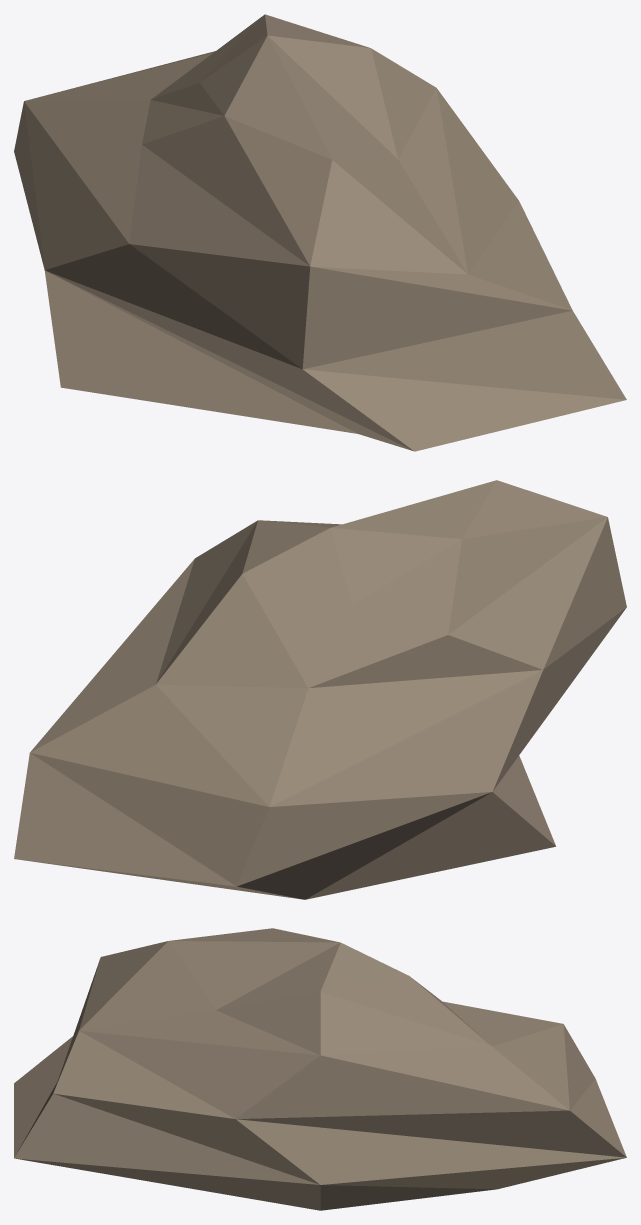
The model's file is fbxRock.fbx.
3 views of the same model, one above another, from view 1: azimuth 30°, elevation 25°; view 2: azimuth 150°, elevation 25°; view 3: azimuth 270°, elevation 25° (orthographic). The views are drawn at different scales.
Visible parts, largest first — view 1: pSphere12; view 2: pSphere12; view 3: pSphere12.
Boxes of the visible parts, x1,y1,x2,y2 form: pSphere12: [14, 14, 626, 451]; pSphere12: [14, 480, 626, 899]; pSphere12: [14, 928, 626, 1210].
Bounding box in the file's own units: 3 × 2.35 × 5.1.
